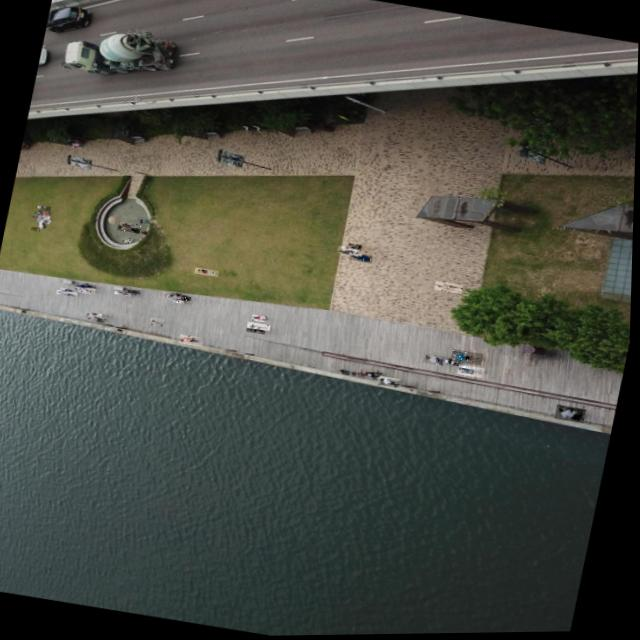Person: (556, 405, 589, 424), (452, 349, 486, 366), (436, 281, 465, 295), (459, 364, 486, 379), (181, 333, 206, 346), (425, 353, 448, 366), (338, 245, 365, 256), (380, 375, 402, 388), (196, 266, 221, 277), (351, 252, 375, 263), (76, 284, 99, 295), (248, 321, 272, 331), (118, 223, 142, 233), (87, 311, 110, 320), (248, 326, 269, 335), (121, 220, 142, 229), (58, 288, 79, 296), (88, 314, 108, 322), (151, 316, 166, 326), (78, 281, 98, 288), (62, 286, 80, 293), (253, 314, 268, 322), (176, 294, 193, 301), (122, 234, 134, 243), (116, 290, 133, 296), (349, 243, 363, 250), (170, 292, 184, 299), (463, 368, 476, 375), (168, 294, 180, 300), (199, 268, 210, 274), (87, 313, 97, 319), (32, 225, 42, 231), (175, 298, 186, 303)
